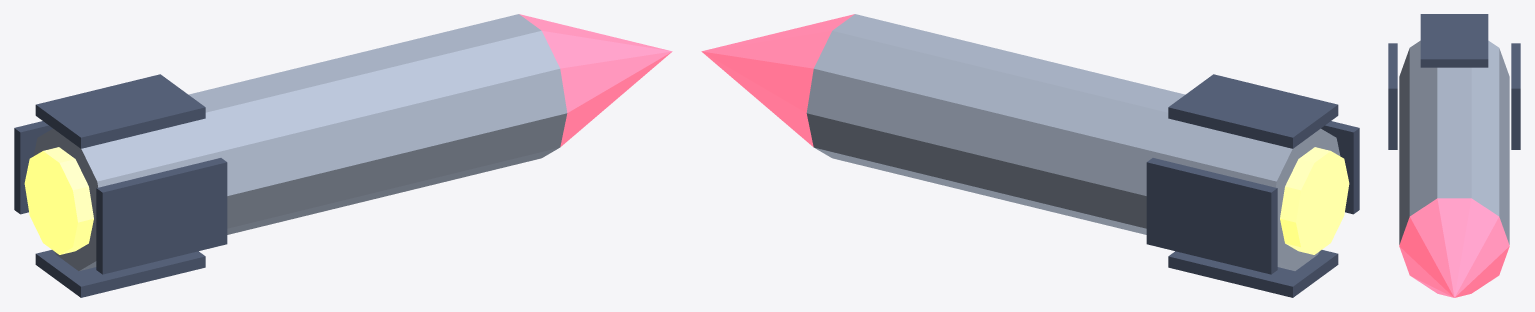
The model's file is proj_missile.glb.
The picture shows the model from 3 angles, left to right: view 1: azimuth 30°, elevation 25°; view 2: azimuth 150°, elevation 25°; view 3: azimuth 270°, elevation 25°; orthographic projection. The views are drawn at different scales.
Parts seen in each view (by area): view 1: proj_missile; view 2: proj_missile; view 3: proj_missile.
Boxes of the visible parts, <box> form: proj_missile: <box>14,14,672,297</box>; proj_missile: <box>701,14,1359,297</box>; proj_missile: <box>1388,14,1520,297</box>.
Bounding box in the file's own units: 1.75 × 0.43 × 0.43.
